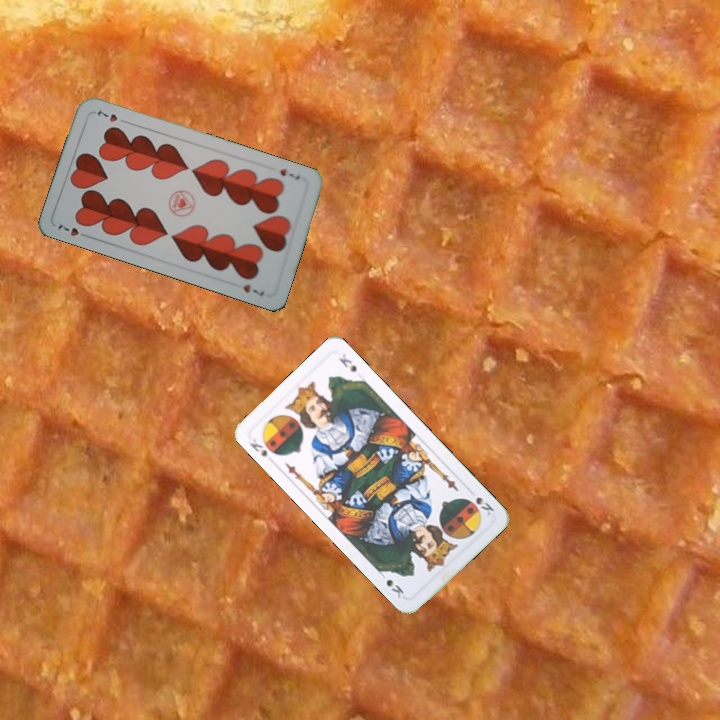H7: (54, 219, 92, 240), (275, 165, 303, 183)
SK: (463, 485, 497, 518), (246, 434, 270, 460)
